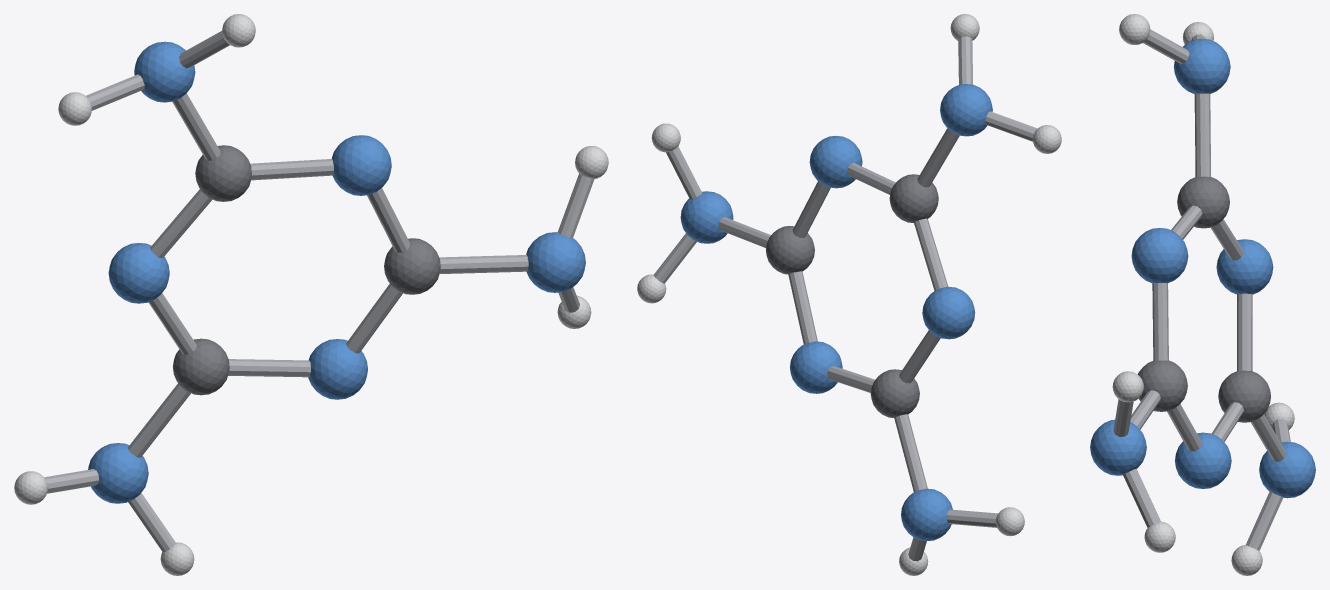
The model's file is Melamine_C3H6N6_3D_molecule_AR.glb.
The picture shows the model from 3 angles, left to right: view 1: azimuth 30°, elevation 25°; view 2: azimuth 150°, elevation 25°; view 3: azimuth 270°, elevation 25°; orthographic projection. The views are drawn at different scales.
Parts seen in each view (by area): view 1: world; view 2: world; view 3: world.
Boxes of the visible parts, x1,y1,x2,y2 form: world: (14,14,608,575); world: (637,14,1061,575); world: (1090,14,1315,575).
Size of the model in its own units: 5.56 by 6.3 by 2.3.
